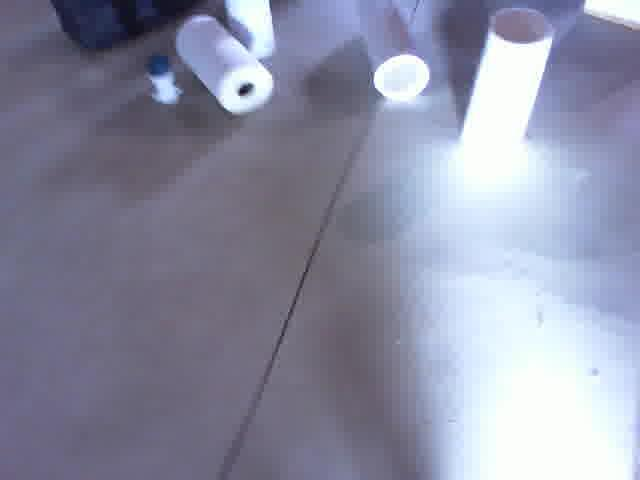coral: (459, 5, 558, 170), (357, 0, 432, 100)
